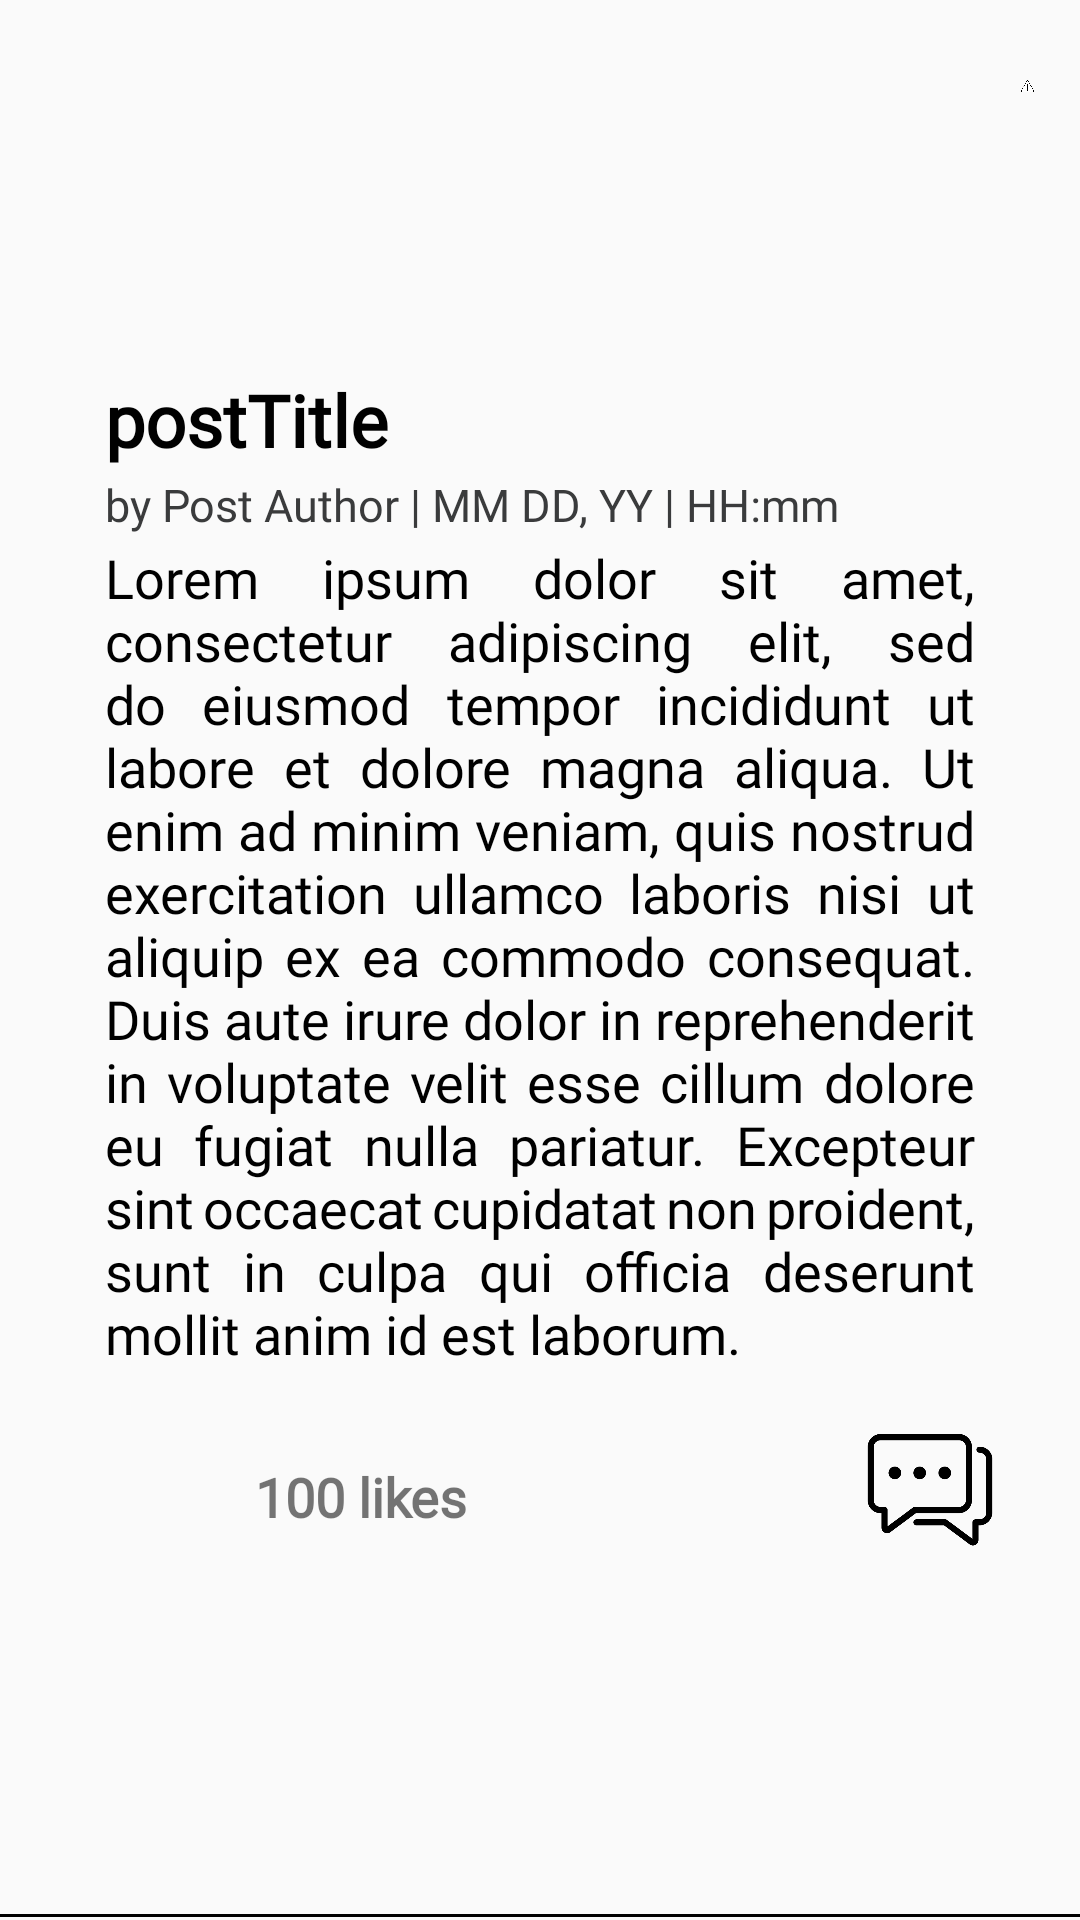

Locate icon controls on the screen. Image size 1080x1920, boxes as [x1, y1, x2, y2].
comment: [867, 1434, 993, 1546]
